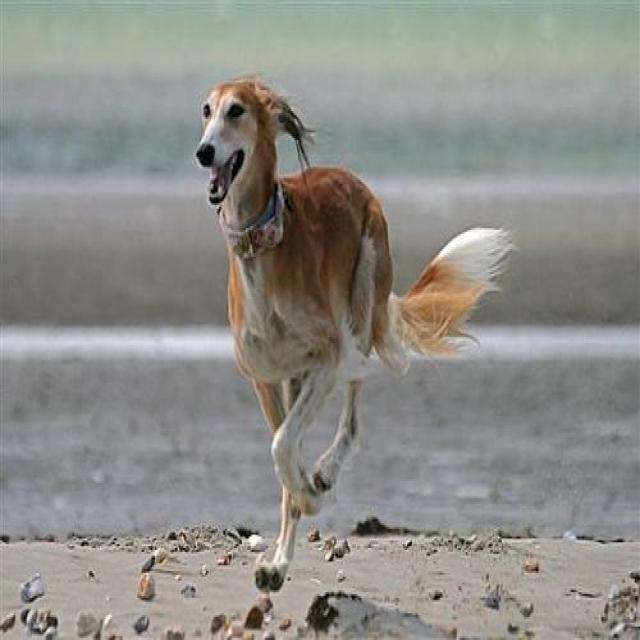saluki: (195, 79, 520, 590)
